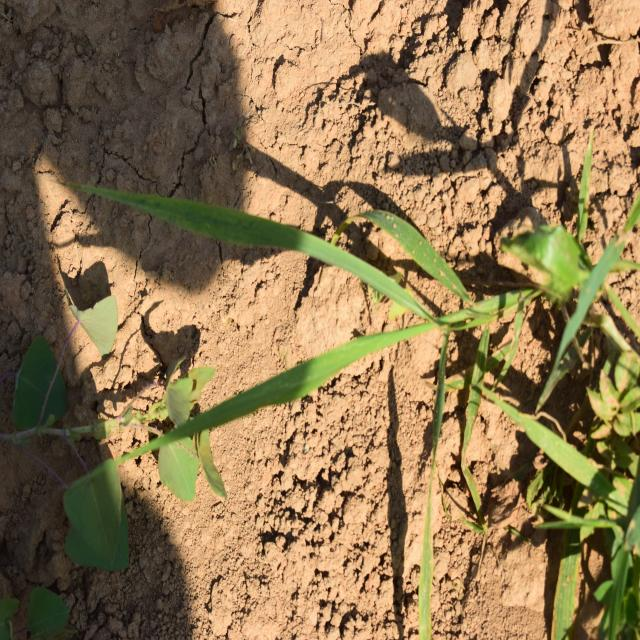green_foxtail: (192, 197, 520, 495)
